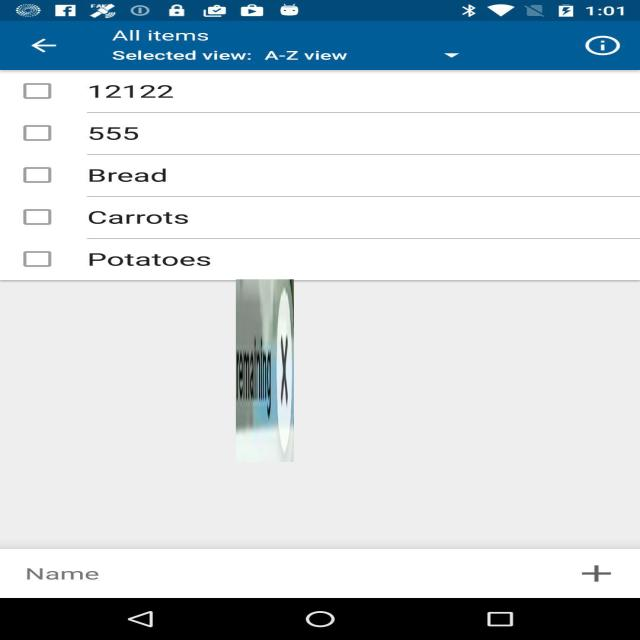misdirection: (236, 279, 294, 462)
